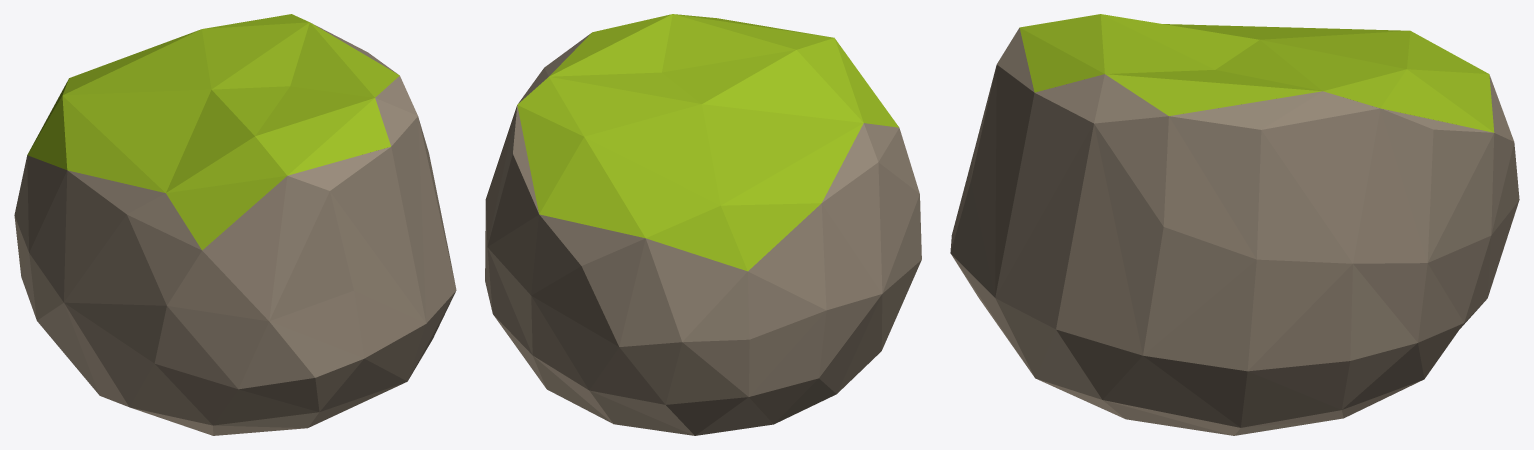
Rendered from village_pack_rock_2.glb.
3 views of the same model, side by side, from view 1: azimuth 30°, elevation 25°; view 2: azimuth 150°, elevation 25°; view 3: azimuth 270°, elevation 25° (orthographic). The views are drawn at different scales.
Visible parts, largest first — view 1: rock 2_grass 1_0; view 2: rock 2_grass 1_0; view 3: rock 2_grass 1_0.
Boxes of the visible parts, x1=… form: rock 2_grass 1_0: x1=14, y1=14, x2=456, y2=435; rock 2_grass 1_0: x1=485, y1=14, x2=921, y2=435; rock 2_grass 1_0: x1=950, y1=14, x2=1519, y2=435.
Bounding box in the file's own units: 4.82 × 4.11 × 5.71.
